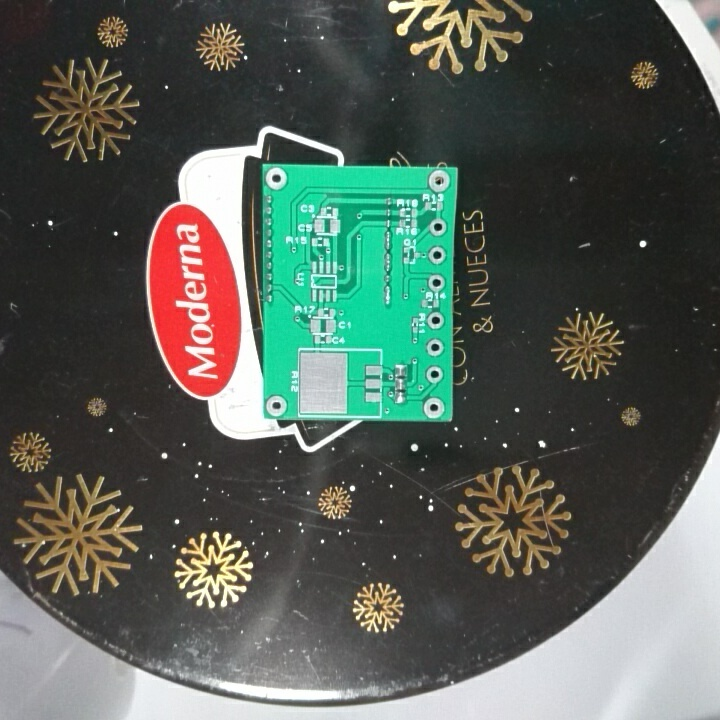F: (265, 165, 290, 193), (264, 392, 290, 418), (426, 168, 451, 195), (421, 395, 447, 420), (428, 215, 449, 240), (427, 245, 448, 269), (425, 309, 445, 333), (425, 272, 446, 294), (424, 363, 445, 385), (424, 337, 445, 358)
P: (382, 251, 394, 274), (381, 284, 394, 305), (382, 229, 395, 250)
